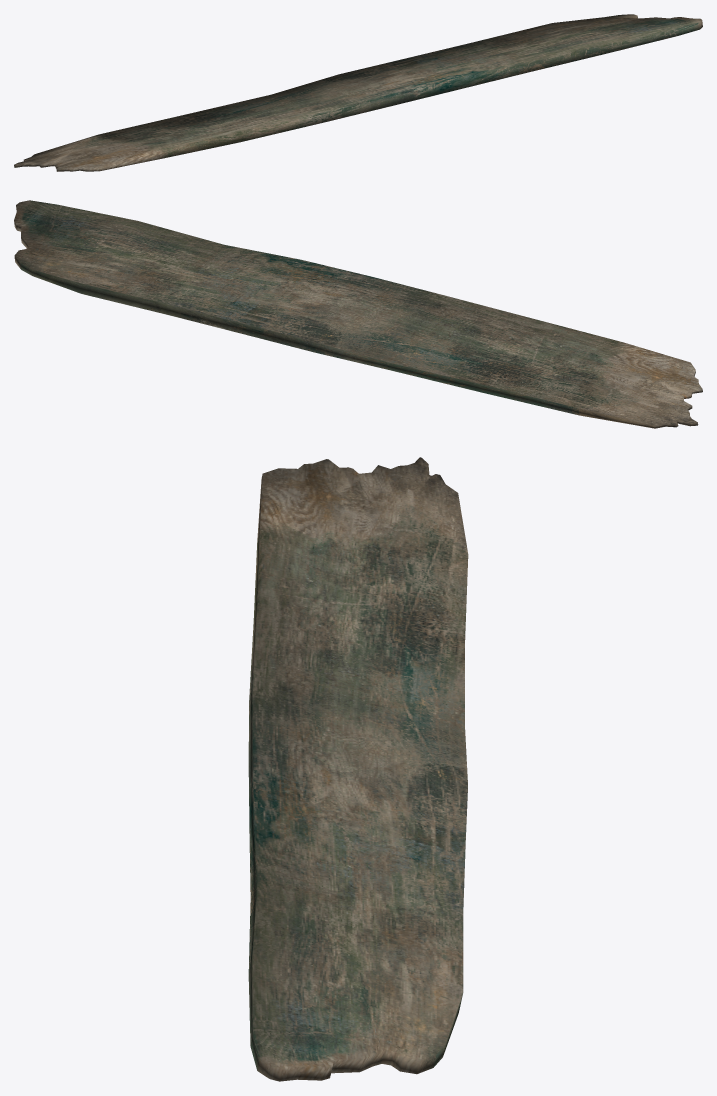
Rendered from wooden_plank_model.fbx.
3 views of the same model, one above another, from view 1: azimuth 30°, elevation 25°; view 2: azimuth 150°, elevation 25°; view 3: azimuth 270°, elevation 25° (orthographic). The views are drawn at different scales.
Visible parts, largest first — view 1: Plank_Broken_HP_plank_broken_0; view 2: Plank_Broken_HP_plank_broken_0; view 3: Plank_Broken_HP_plank_broken_0.
Boxes of the visible parts, box(x1,y1,x2,y2) form: Plank_Broken_HP_plank_broken_0: box(14, 14, 702, 171); Plank_Broken_HP_plank_broken_0: box(14, 200, 702, 428); Plank_Broken_HP_plank_broken_0: box(248, 457, 468, 1081).
Bounding box in the file's own units: 37.94 × 5.54 × 1.67.
Materials: 1 (1 with a texture image).
